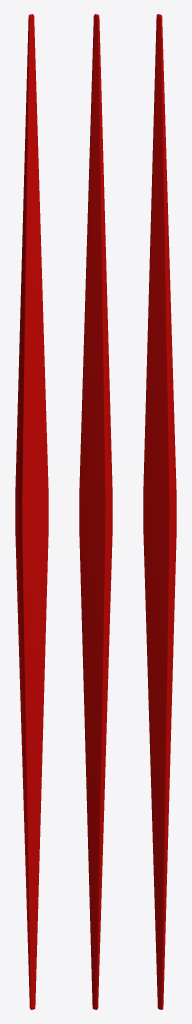
The model's file is kmgspeedarm.glb.
3 renders of one model, left to right at view 1: azimuth 30°, elevation 25°; view 2: azimuth 150°, elevation 25°; view 3: azimuth 330°, elevation 25°, orthographic.
Visible parts, largest first — view 1: Cube.002; view 2: Cube.002; view 3: Cube.002.
Part boxes in pixels (x1,y1,x2,y2): Cube.002: (15,14,48,1009); Cube.002: (79,14,112,1009); Cube.002: (143,14,176,1009).
Size of the model in its own units: 1.07 by 38.26 by 0.494.
